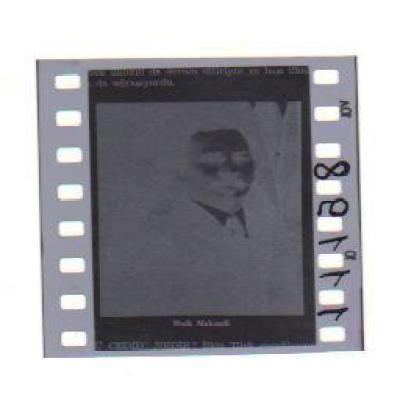photos_negatives: (81, 62, 313, 354)
